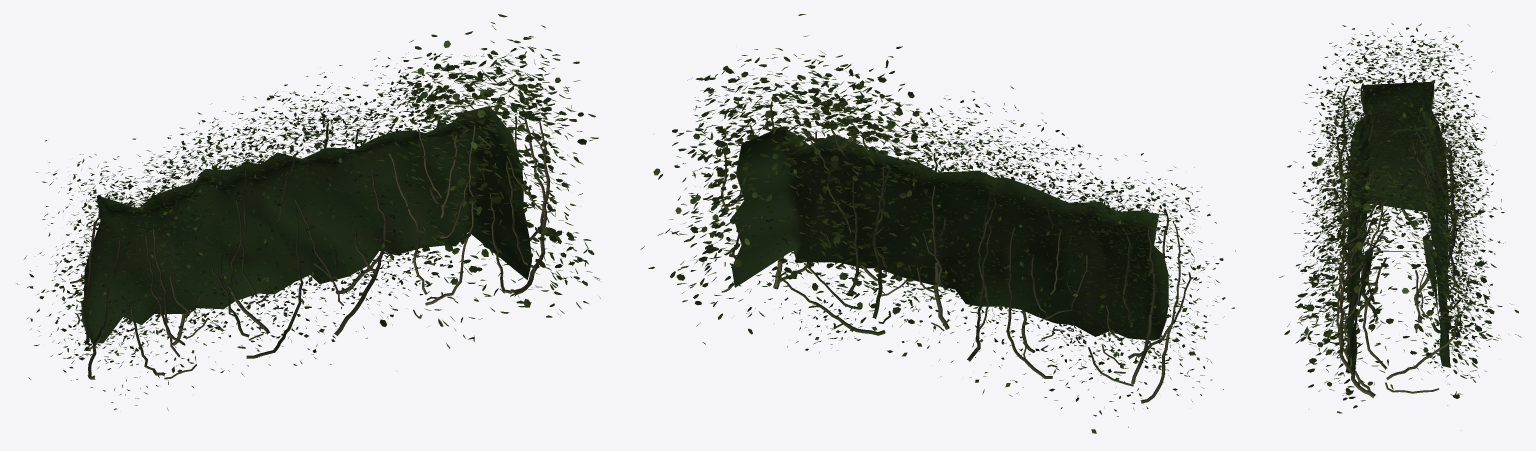
File: SM_Tree_hedge_0.glb
3 renders of one model, left to right at view 1: azimuth 30°, elevation 25°; view 2: azimuth 150°, elevation 25°; view 3: azimuth 270°, elevation 25°, orthographic. The views are drawn at different scales.
Visible parts, largest first — view 1: SM_Tree_hedge_0; view 2: SM_Tree_hedge_0; view 3: SM_Tree_hedge_0.
Boxes of the visible parts, bbox=[...] form: SM_Tree_hedge_0: bbox=[16, 14, 600, 410]; SM_Tree_hedge_0: bbox=[640, 14, 1235, 433]; SM_Tree_hedge_0: bbox=[1279, 23, 1521, 413].
Bounding box in the file's own units: 5.24 × 2.85 × 2.28.
